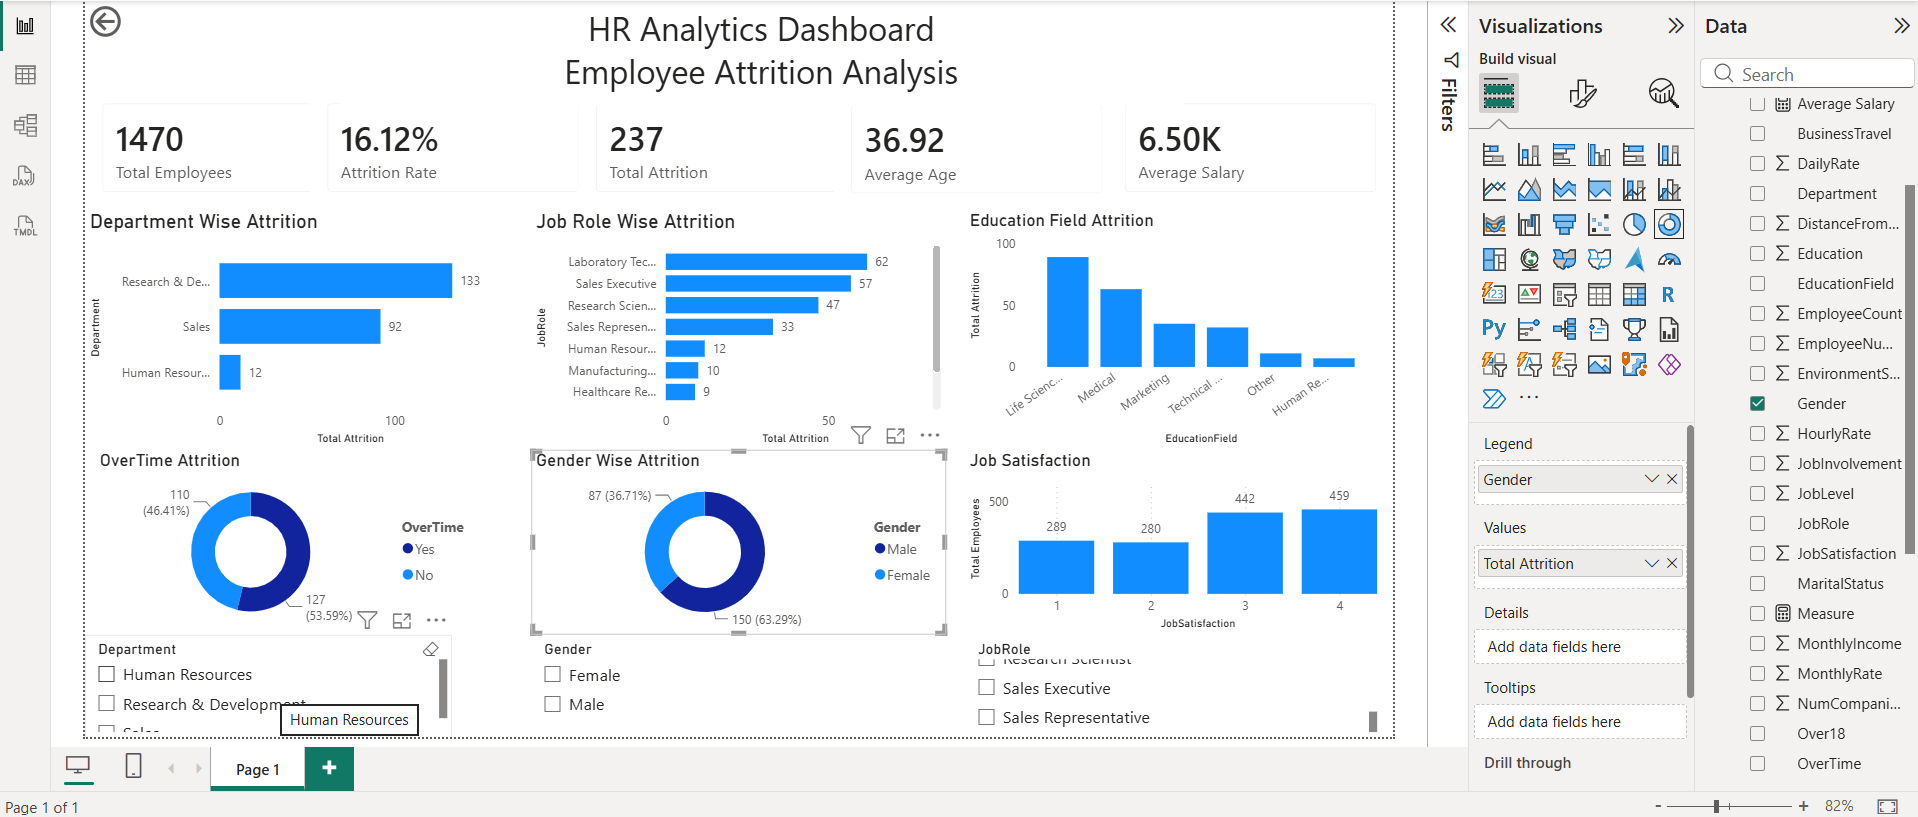

Layout of this report page (visuals, bound fields, positions):
{"tool":"powerbi","page":{"name":"Page 1","canvas":[1280,720],"ordinal":0},"visuals":[{"type":"cardVisual","fields":{"Data":["WA_Fn-UseC_-HR-Employee-Attrition.Total Employees"]},"box":[0,83.2,280,121.1],"z":0},{"type":"cardVisual","fields":{"Data":["WA_Fn-UseC_-HR-Employee-Attrition.Attrition Rate"]},"box":[220.1,83.2,280,121.1],"z":1},{"type":"cardVisual","fields":{"Data":["WA_Fn-UseC_-HR-Employee-Attrition.Total Attrition"]},"box":[483,83.2,280,121.1],"z":2},{"type":"cardVisual","fields":{"Data":["WA_Fn-UseC_-HR-Employee-Attrition.Average Age"]},"box":[732.5,84.4,280,121.1],"z":3},{"type":"cardVisual","fields":{"Data":["WA_Fn-UseC_-HR-Employee-Attrition.Average Salary"]},"box":[1000.3,83.2,280,121.1],"z":4},{"type":"clusteredBarChart","title":"Department Wise Attrition","fields":{"Category":["WA_Fn-UseC_-HR-Employee-Attrition.Department"],"Y":["WA_Fn-UseC_-HR-Employee-Attrition.Total Attrition"]},"box":[0,204.2,403.5,234.8],"z":5},{"type":"clusteredBarChart","title":"Job Role Wise Attrition","fields":{"Y":["WA_Fn-UseC_-HR-Employee-Attrition.Total Attrition"],"Category":["WA_Fn-UseC_-HR-Employee-Attrition.JobRole"]},"box":[436.6,204.2,406,234.8],"z":6},{"type":"donutChart","title":"OverTime Attrition","fields":{"Category":["WA_Fn-UseC_-HR-Employee-Attrition.OverTime"],"Y":["WA_Fn-UseC_-HR-Employee-Attrition.Total Attrition"]},"box":[9.8,439,384,181],"z":7},{"type":"clusteredColumnChart","title":"Education Field Attrition","fields":{"Category":["WA_Fn-UseC_-HR-Employee-Attrition.EducationField"],"Y":["WA_Fn-UseC_-HR-Employee-Attrition.Total Attrition"]},"box":[860.9,204.2,408.4,234.8],"z":8},{"type":"donutChart","title":"Gender Wise Attrition","fields":{"Category":["WA_Fn-UseC_-HR-Employee-Attrition.Gender"],"Y":["WA_Fn-UseC_-HR-Employee-Attrition.Total Attrition"]},"box":[436.6,439,406,181],"z":9},{"type":"clusteredColumnChart","title":"Job Satisfaction","fields":{"Category":["WA_Fn-UseC_-HR-Employee-Attrition.JobSatisfaction"],"Y":["WA_Fn-UseC_-HR-Employee-Attrition.Total Employees"]},"box":[860.9,439,408.4,181],"z":10},{"type":"slicer","fields":{"Values":["WA_Fn-UseC_-HR-Employee-Attrition.Department"]},"box":[0,620,359.5,100.3],"z":11},{"type":"slicer","fields":{"Values":["WA_Fn-UseC_-HR-Employee-Attrition.Gender"]},"box":[436.6,620,406,100.3],"z":12},{"type":"slicer","fields":{"Values":["WA_Fn-UseC_-HR-Employee-Attrition.JobRole"]},"box":[860.9,620,408.4,100.3],"z":13},{"type":"actionButton","box":[0,0,100,40],"z":14},{"type":"textbox","box":[249.5,0,824.2,102.7],"z":15}]}

Visuals, with their boxes on the page's 1280x720 design canvas (x1, y1, x2, y2). These are canvas units, not pixel positions in the 1918x817 screenshot, which may show the page scaled, cropped or inside an application window:
cardVisual - WA_Fn-UseC_-HR-Employee-Attrition.Total Employees: bbox(0, 83, 280, 204)
cardVisual - WA_Fn-UseC_-HR-Employee-Attrition.Attrition Rate: bbox(220, 83, 500, 204)
cardVisual - WA_Fn-UseC_-HR-Employee-Attrition.Total Attrition: bbox(483, 83, 763, 204)
cardVisual - WA_Fn-UseC_-HR-Employee-Attrition.Average Age: bbox(732, 84, 1012, 206)
cardVisual - WA_Fn-UseC_-HR-Employee-Attrition.Average Salary: bbox(1000, 83, 1280, 204)
"Department Wise Attrition" clusteredBarChart: bbox(0, 204, 404, 439)
"Job Role Wise Attrition" clusteredBarChart: bbox(437, 204, 843, 439)
"OverTime Attrition" donutChart: bbox(10, 439, 394, 620)
"Education Field Attrition" clusteredColumnChart: bbox(861, 204, 1269, 439)
"Gender Wise Attrition" donutChart: bbox(437, 439, 843, 620)
"Job Satisfaction" clusteredColumnChart: bbox(861, 439, 1269, 620)
slicer - WA_Fn-UseC_-HR-Employee-Attrition.Department: bbox(0, 620, 360, 720)
slicer - WA_Fn-UseC_-HR-Employee-Attrition.Gender: bbox(437, 620, 843, 720)
slicer - WA_Fn-UseC_-HR-Employee-Attrition.JobRole: bbox(861, 620, 1269, 720)
actionButton: bbox(0, 0, 100, 40)
textbox: bbox(250, 0, 1074, 103)
